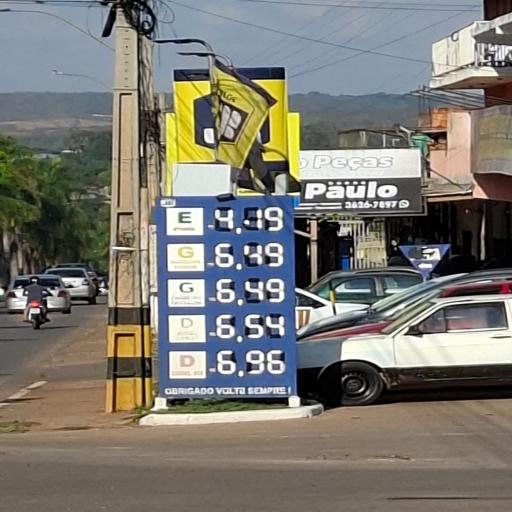ETANOL: (168, 208, 202, 235)
GASOLINA AD: (167, 280, 205, 308)
GASOLINA C: (168, 244, 204, 270)
S10: (168, 351, 206, 378)
S500: (167, 315, 204, 344)
placa: (158, 193, 297, 397)
preco: (212, 204, 290, 234), (214, 241, 287, 270), (216, 277, 288, 306), (216, 349, 288, 378), (215, 313, 287, 341)
